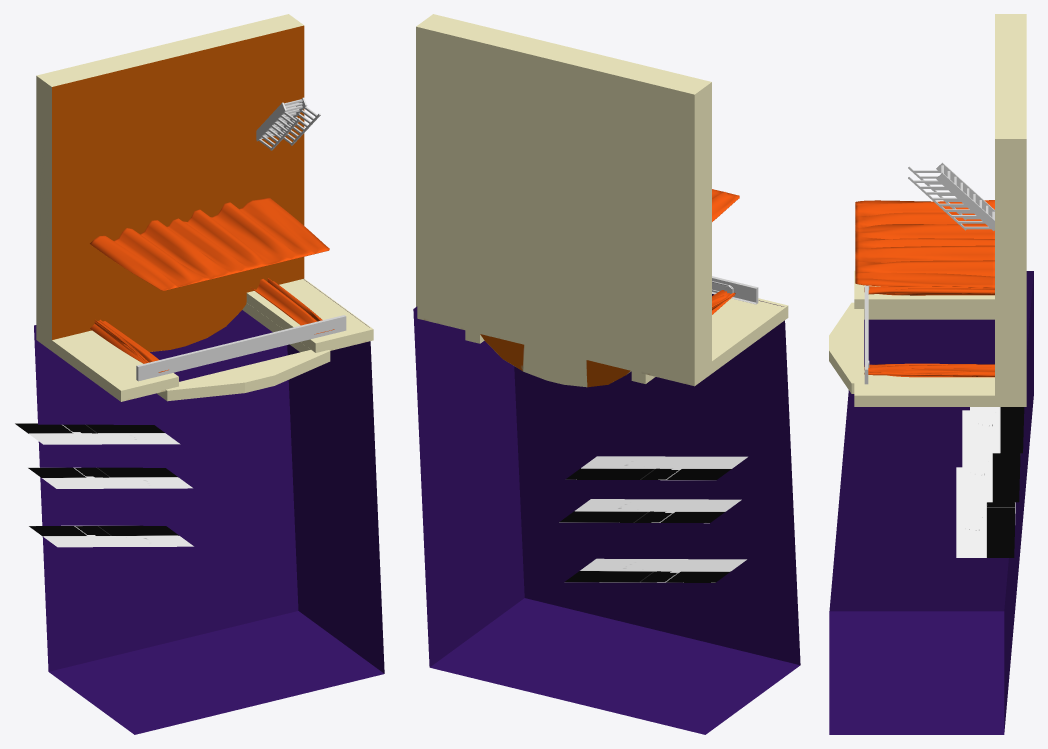
File: Modelo escenario final.fbx
The picture shows the model from 3 angles, left to right: view 1: azimuth 30°, elevation 25°; view 2: azimuth 150°, elevation 25°; view 3: azimuth 270°, elevation 25°; orthographic projection. The views are drawn at different scales.
Parts seen in each view (by area): view 1: Publico, Teatro base, Telon Atras, cuerda telon, escalera, Telon derecha, Telon izquierda; view 2: Publico, Teatro base, cuerda telon; view 3: Publico, Teatro base, Telon Atras, escalera, Telon derecha, Telon izquierda, cuerda telon.
Part boxes in pixels (bbox=[...]): Publico: bbox=[14, 279, 384, 734]; Teatro base: bbox=[36, 14, 373, 401]; Telon Atras: bbox=[90, 197, 329, 290]; cuerda telon: bbox=[136, 315, 346, 381]; escalera: bbox=[256, 97, 320, 150]; Telon derecha: bbox=[251, 278, 334, 334]; Telon izquierda: bbox=[90, 319, 168, 372]; Publico: bbox=[413, 294, 800, 734]; Teatro base: bbox=[416, 14, 788, 387]; cuerda telon: bbox=[712, 276, 758, 304]; Publico: bbox=[829, 271, 1033, 734]; Teatro base: bbox=[829, 14, 1026, 406]; Telon Atras: bbox=[855, 200, 994, 287]; escalera: bbox=[908, 162, 994, 230]; Telon derecha: bbox=[864, 363, 994, 377]; Telon izquierda: bbox=[864, 286, 994, 295]; cuerda telon: bbox=[864, 285, 869, 384].
Bounding box in the file's own units: 1082 × 2227 × 693.
Materials: 3 (3 with a texture image).
